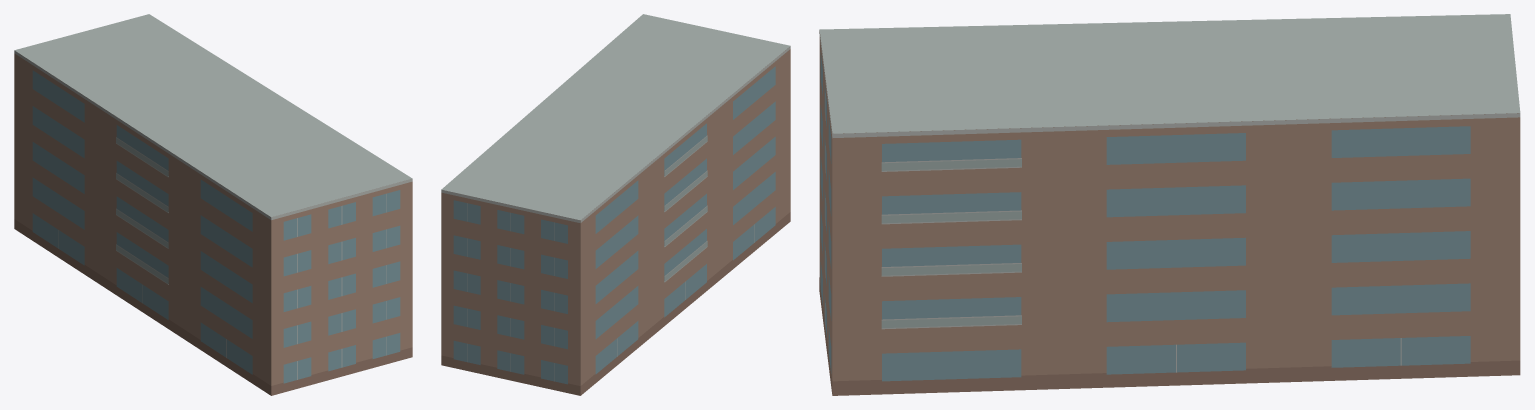
File: survey-upis-32763163.glb
3 views of the same model, side by side, from view 1: azimuth 30°, elevation 25°; view 2: azimuth 150°, elevation 25°; view 3: azimuth 270°, elevation 25° (orthographic). The views are drawn at different scales.
Visible parts, largest first — view 1: survey-upis-32763163.tmp; view 2: survey-upis-32763163.tmp; view 3: survey-upis-32763163.tmp.
Part boxes in pixels (x1,y1,x2,y2): survey-upis-32763163.tmp: (14, 14, 412, 395); survey-upis-32763163.tmp: (441, 14, 790, 395); survey-upis-32763163.tmp: (819, 14, 1520, 395).
Size of the model in its own units: 14.32 by 14.6 by 35.39.
